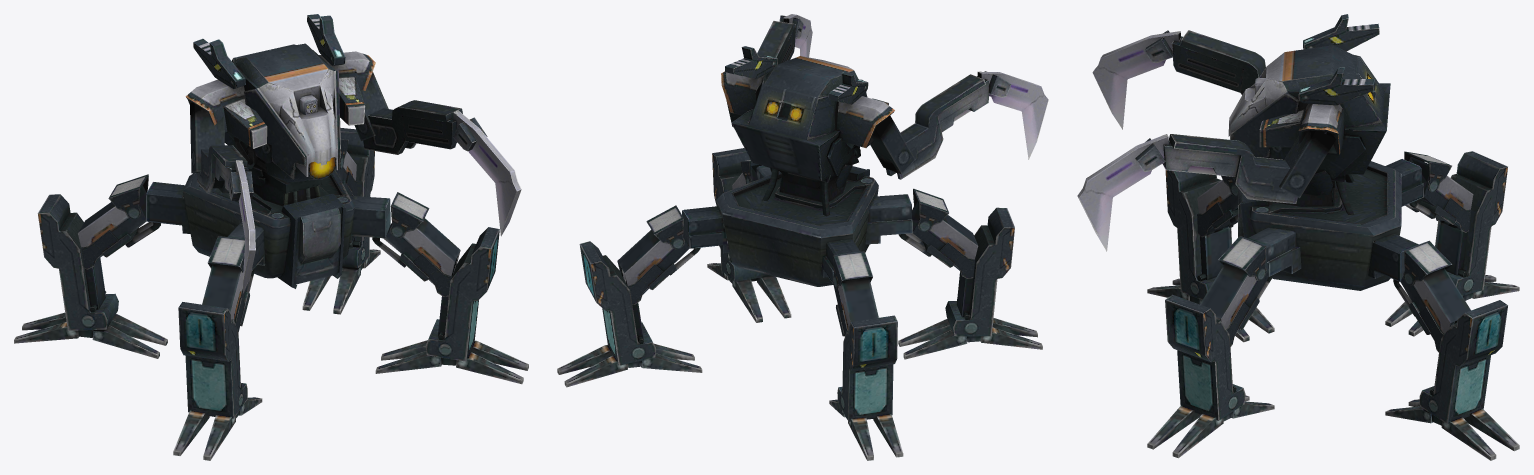
3 views of the same model, side by side, from view 1: azimuth 30°, elevation 25°; view 2: azimuth 150°, elevation 25°; view 3: azimuth 270°, elevation 25° (orthographic). The views are drawn at different scales.
Parts seen in each view (by area): view 1: 20_10; view 2: 20_10; view 3: 20_10.
Part boxes in pixels (x1=…): 20_10: x1=14, y1=14, x2=528, y2=460; 20_10: x1=557, y1=14, x2=1048, y2=460; 20_10: x1=1077, y1=14, x2=1519, y2=460.
Bounding box in the file's own units: 301 × 254 × 310.
